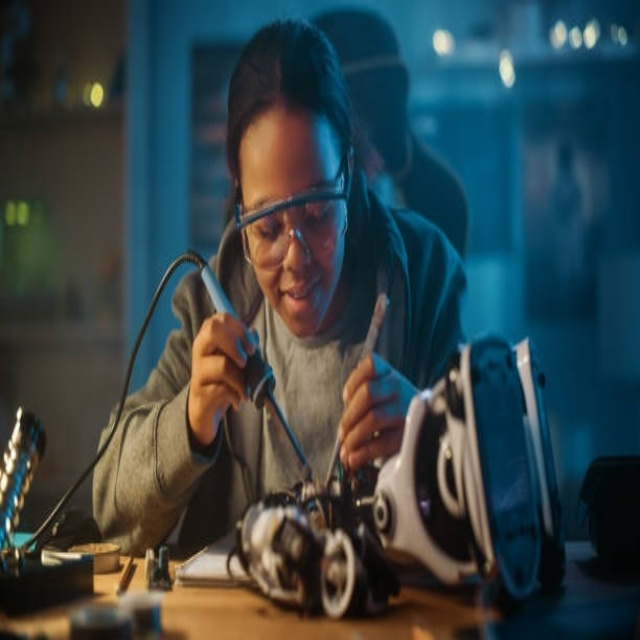Gafas: (234, 149, 350, 267)
Sin_guantes: (188, 307, 266, 437), (336, 349, 413, 471)
Sin_mascara: (272, 270, 325, 329)
